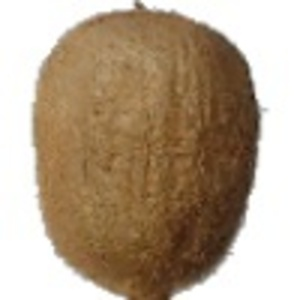kiwi: (29, 1, 263, 300)
